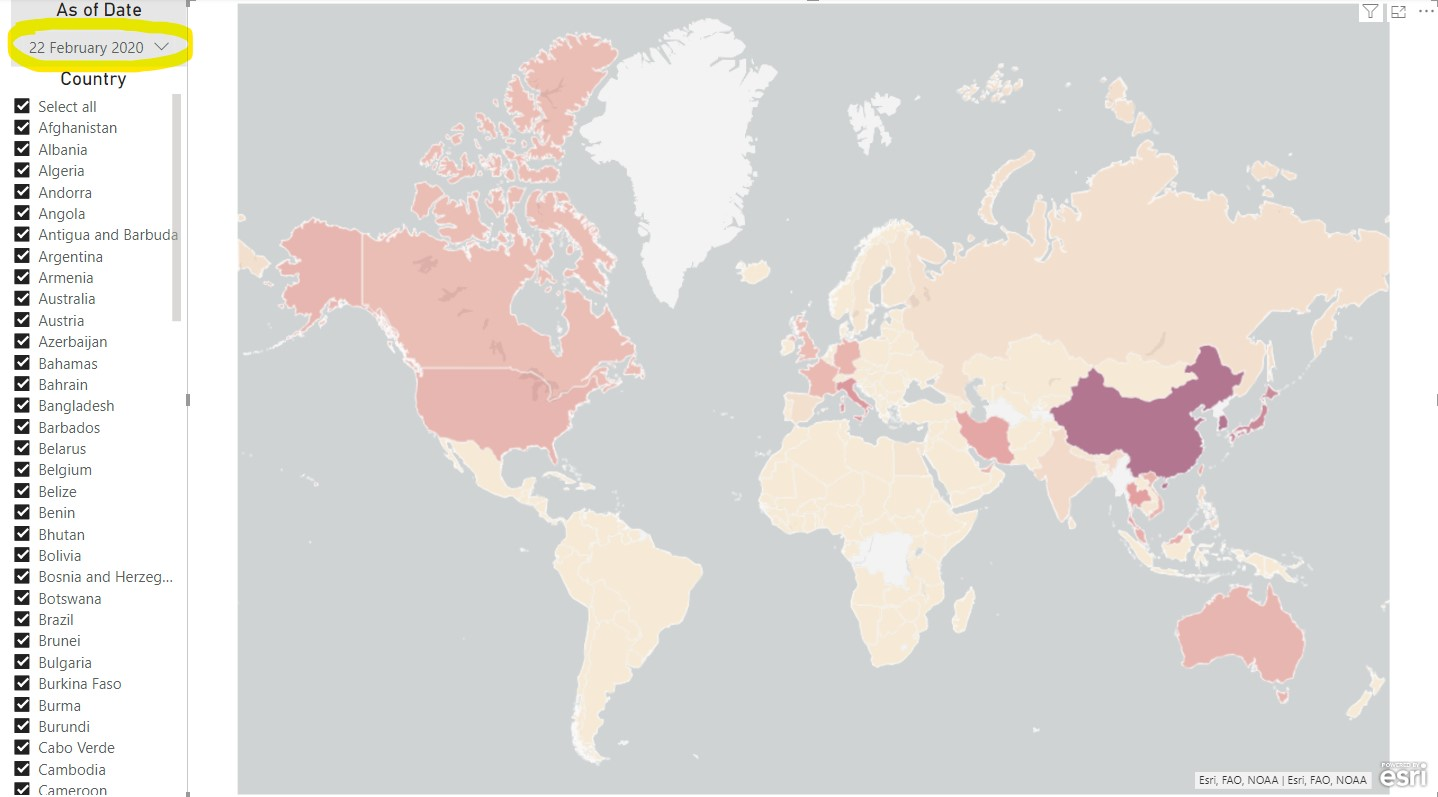

Layout of this report page (visuals, bound fields, positions):
{"tool":"powerbi","page":{"name":"Page 1","canvas":[1280,720],"ordinal":0},"visuals":[{"type":"slicer","title":"As of Date","fields":{"Values":["covid_ts_global.date"]},"box":[9.7,0,156.5,61.2],"z":0},{"type":"slicer","title":"Country","fields":{"Values":["covid_ts_global.country_region"]},"box":[0,61.2,166.2,652.1],"z":1000},{"type":"esriVisual","fields":{"Location":["covid_ts_global.country_region"],"Color":["Sum(covid_ts_global.cumulative_count)"]},"box":[166.2,0,1113.8,713.4],"z":2000}]}

Visuals, with their boxes in screenshot pixels (x1, y1, x2, y2), scaled from the page's 1280x720 canvas onto the 1438x797 screenshot:
"As of Date" slicer: pyautogui.locateOnScreen(11, 0, 187, 68)
"Country" slicer: pyautogui.locateOnScreen(0, 68, 187, 790)
esriVisual - covid_ts_global.country_region x Sum(covid_ts_global.cumulative_count): pyautogui.locateOnScreen(187, 0, 1437, 790)
